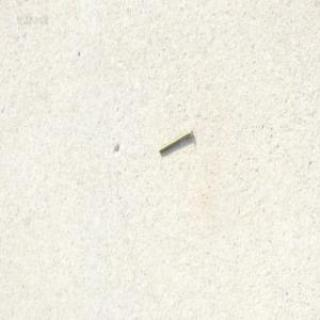Bolttrack_idkeyframe: (156, 125, 192, 153)
